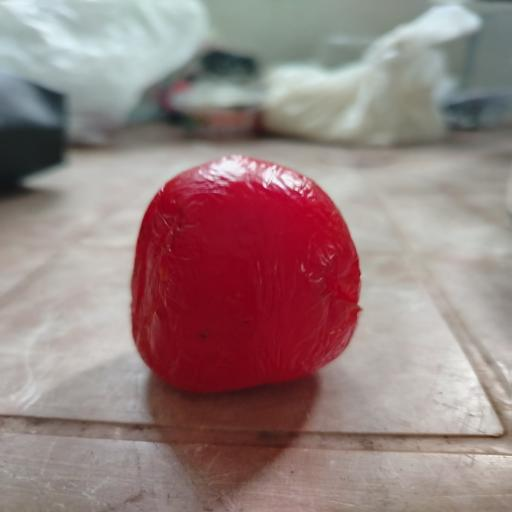spoiled: (131, 156, 360, 392)
